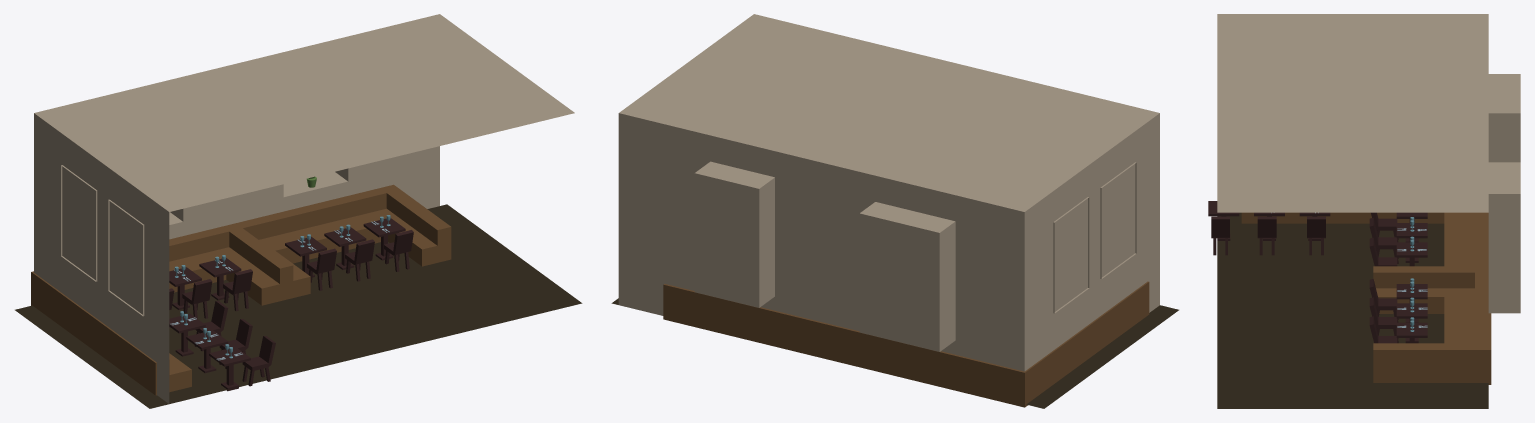
Rendered from RestaurantBlockout.fbx.
The picture shows the model from 3 angles, left to right: view 1: azimuth 30°, elevation 25°; view 2: azimuth 150°, elevation 25°; view 3: azimuth 270°, elevation 25°; orthographic projection.
Visible parts, largest first — view 1: pCylinder13; view 2: pCylinder13; view 3: pCylinder13.
Part boxes in pixels (x1,y1,x2,y2): pCylinder13: (15,14,582,408); pCylinder13: (611,14,1178,408); pCylinder13: (1208,14,1520,408).
Size of the model in its own units: 440 by 189 by 274.
